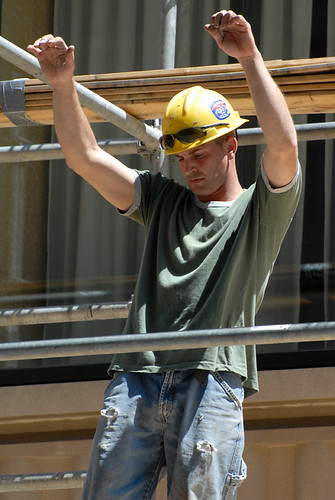person hardhat: (20, 10, 304, 500)
